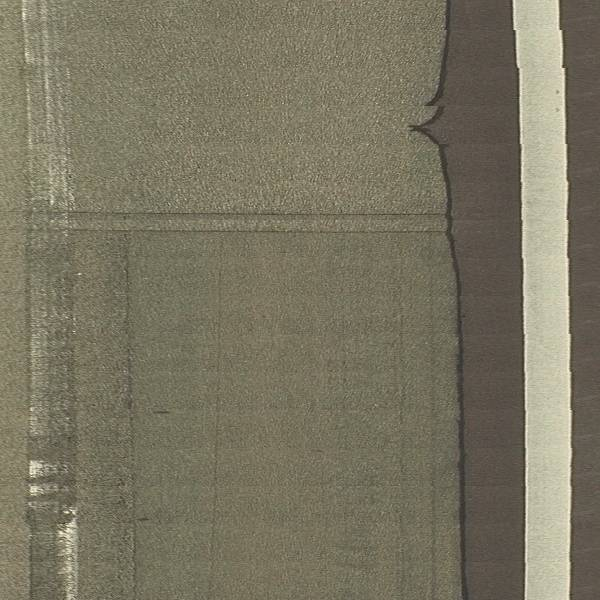road_damage: (49, 192, 482, 225), (405, 89, 483, 181)
